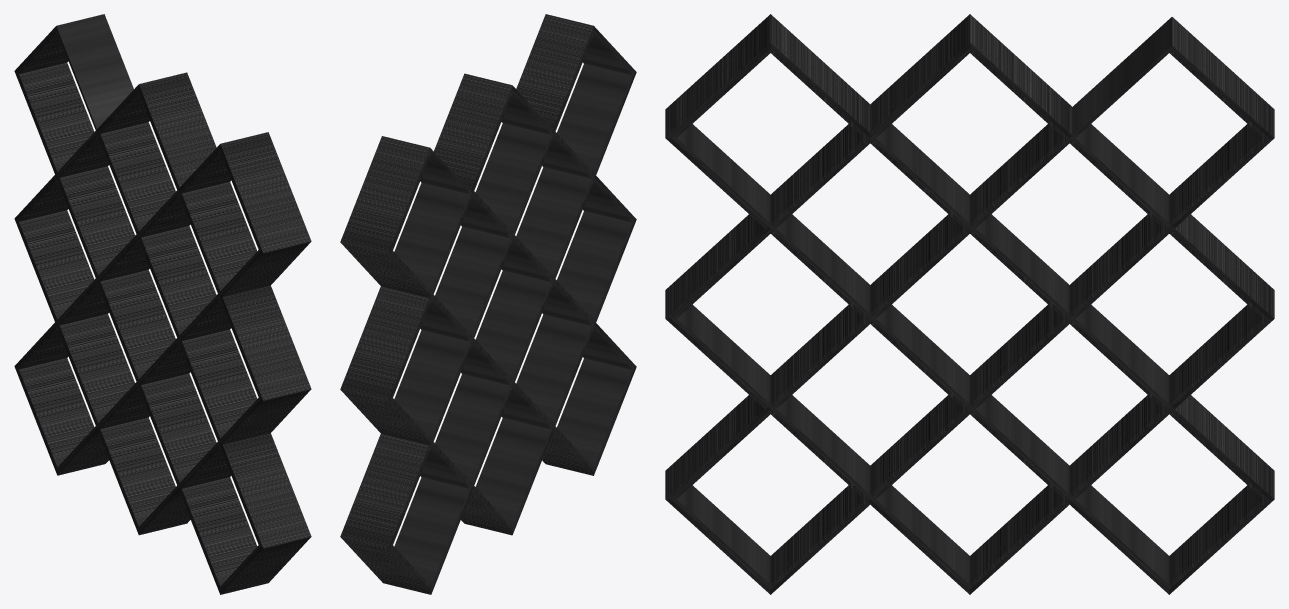
Rendered from bookcase.fbx.
3 renders of one model, left to right at view 1: azimuth 30°, elevation 25°; view 2: azimuth 150°, elevation 25°; view 3: azimuth 270°, elevation 25°, orthographic. The views are drawn at different scales.
Visible parts, largest first — view 1: Cloner_3; view 2: Cloner_3; view 3: Cloner_3.
Part boxes in pixels (left/top/right/bottom): Cloner_3: left=14, top=14, right=311, bottom=594; Cloner_3: left=340, top=14, right=636, bottom=594; Cloner_3: left=665, top=14, right=1274, bottom=594.
Bounding box in the file's own units: 68.4 × 611 × 611.
1 material, 1 textured.
